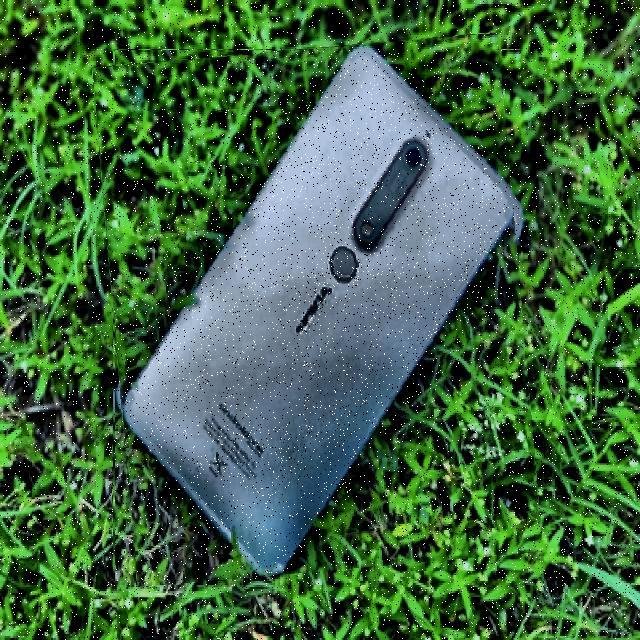Phone: (102, 41, 532, 580)
